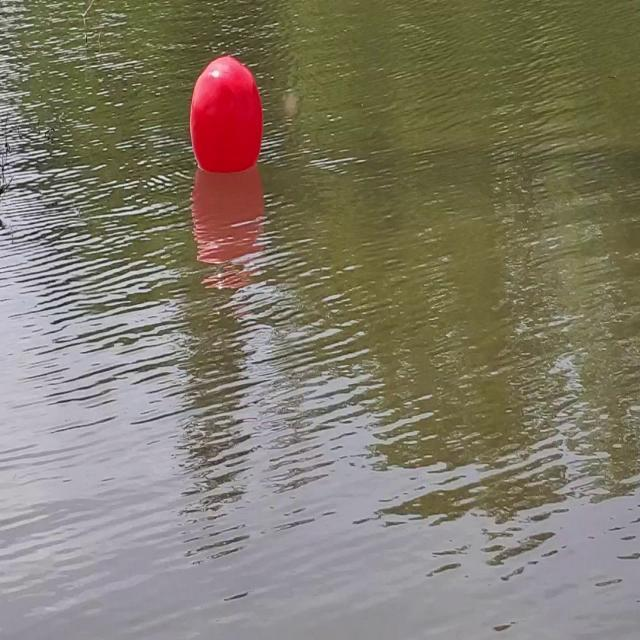buoy: (190, 54, 262, 174)
